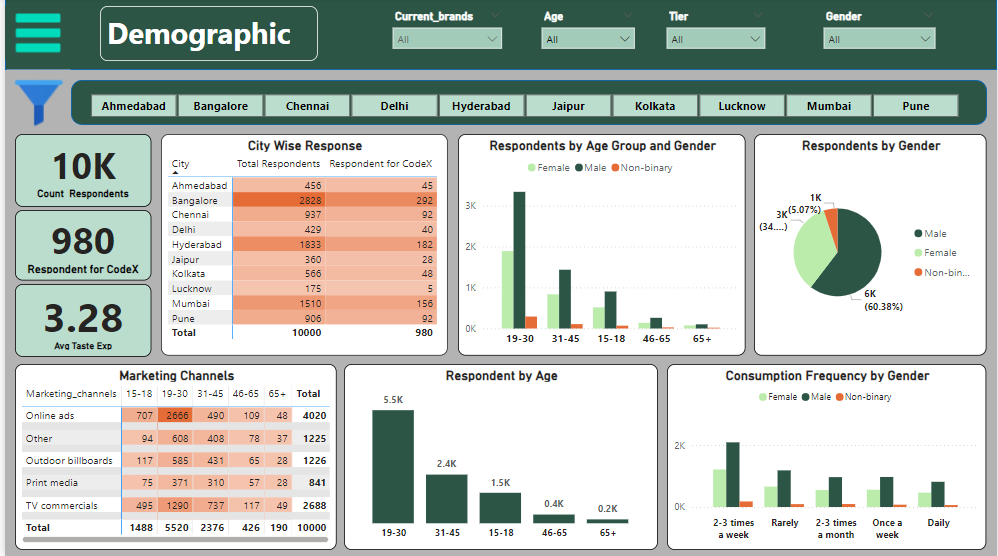

The page's visual inventory and layout, read from the dashboard file:
{"tool":"powerbi","page":{"name":"Demographic","canvas":[1280,720],"ordinal":1},"visuals":[{"type":"card","title":"Count  Respondents","fields":{"Values":["CountNonNull(fact_survey_responses.Respondent_ID)"]},"box":[12.8,175.7,175.7,93.5],"z":0},{"type":"card","title":" Respondent for CodeX","fields":{"Values":["CountNonNull(fact_survey_responses.Respondent_ID)"]},"box":[12.8,273.5,175.7,90.7],"z":1000},{"type":"card","title":"CodeX Avg Taste Exp","fields":{"Values":["Avg(fact_survey_responses.Taste_experience)"]},"box":[12.8,368.5,175.7,93.5],"z":2000},{"type":"pivotTable","title":"City Wise Response","fields":{"Rows":["dim_cities.City"],"Values":["CountNonNull(dim_repondents.Respondent_ID)","fact_survey_responses.Respondent for CodeX"]},"box":[201.3,175.7,369.9,286.3],"z":3000},{"type":"clusteredColumnChart","title":"Respondents by Age Group and Gender","fields":{"Series":["dim_repondents.Gender"],"Y":["CountNonNull(fact_survey_responses.Response_ID)"],"Category":["dim_repondents.Age"]},"box":[583.9,175.7,371.3,286.3],"z":4000},{"type":"pieChart","title":"Respondents by Gender","fields":{"Category":["dim_repondents.Gender"],"Y":["CountNonNull(dim_repondents.Respondent_ID)"]},"box":[966.6,175.7,300.5,286.3],"z":5000},{"type":"pivotTable","title":"Marketing Channels","fields":{"Rows":["fact_survey_responses.Marketing_channels"],"Columns":["dim_repondents.Age"],"Values":["CountNonNull(fact_survey_responses.Marketing_channels)"]},"box":[12.8,472,415.3,239.5],"z":6000},{"type":"columnChart","title":"Respondent by Age","fields":{"Category":["dim_repondents.Age"],"Y":["CountNonNull(fact_survey_responses.Response_ID)"]},"box":[438,472,405.4,239.5],"z":7000},{"type":"clusteredColumnChart","title":" Consumption Frequency by Gender","fields":{"Category":["fact_survey_responses.Consume_frequency"],"Y":["CountNonNull(dim_repondents.Gender)"],"Series":["dim_repondents.Gender"]},"box":[854.6,472,412.4,239.5],"z":8000},{"type":"shape","box":[0,0,1280,92.8],"z":9000},{"type":"shape","box":[85,106.3,1182,58.1],"z":10000},{"type":"textbox","box":[122.7,10,281.1,71.3],"z":11000},{"type":"slicer","fields":{"Values":["dim_cities.City"]},"box":[85,117.6,1169.3,36.9],"z":12000},{"type":"slicer","fields":{"Values":["dim_repondents.Age"]},"box":[682.1,10,139.8,71.3],"z":13000},{"type":"slicer","fields":{"Values":["dim_cities.Tier"]},"box":[843.3,10,147,71.3],"z":14000},{"type":"slicer","fields":{"Values":["fact_survey_responses.Current_brands"]},"box":[490.9,10,161.2,71.3],"z":15000},{"type":"slicer","fields":{"Values":["dim_repondents.Gender"]},"box":[1046,10,164.1,71.3],"z":16000},{"type":"actionButton","title":"Menu bar ","box":[0,9.9,85,69.4],"z":17000},{"type":"actionButton","title":"clear filter","box":[2.8,92.1,82.2,83.6],"z":18000}]}

Visuals, with their boxes in screenshot pixels (x1, y1, x2, y2), scaled from the page's 1280x720 canvas onto the 998x556 screenshot:
"Count  Respondents" card: 10:136:147:208
" Respondent for CodeX" card: 10:211:147:281
"CodeX Avg Taste Exp" card: 10:285:147:357
"City Wise Response" pivotTable: 157:136:445:357
"Respondents by Age Group and Gender" clusteredColumnChart: 455:136:745:357
"Respondents by Gender" pieChart: 754:136:988:357
"Marketing Channels" pivotTable: 10:364:334:549
"Respondent by Age" columnChart: 342:364:658:549
" Consumption Frequency by Gender" clusteredColumnChart: 666:364:988:549
shape: 0:0:997:72
shape: 66:82:988:127
textbox: 96:8:315:63
slicer - dim_cities.City: 66:91:978:119
slicer - dim_repondents.Age: 532:8:641:63
slicer - dim_cities.Tier: 658:8:772:63
slicer - fact_survey_responses.Current_brands: 383:8:508:63
slicer - dim_repondents.Gender: 816:8:943:63
"Menu bar " actionButton: 0:8:66:61
"clear filter" actionButton: 2:71:66:136
